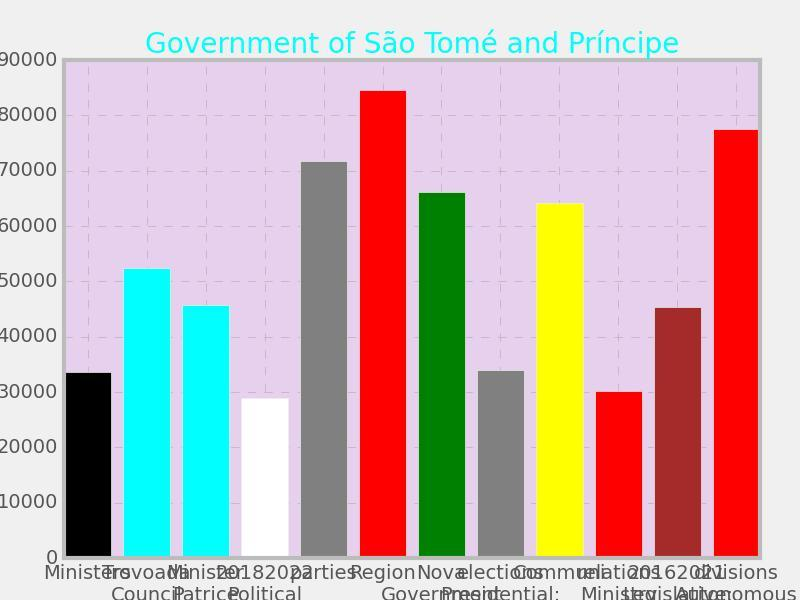axis: (0, 51, 58, 567)
rectangle: (359, 90, 406, 558), (713, 129, 760, 558), (300, 161, 347, 558), (418, 192, 465, 558), (536, 203, 583, 558), (123, 268, 170, 558), (182, 305, 229, 558), (654, 307, 701, 558), (477, 370, 524, 558), (64, 372, 111, 558), (595, 391, 642, 558), (241, 398, 288, 558)
